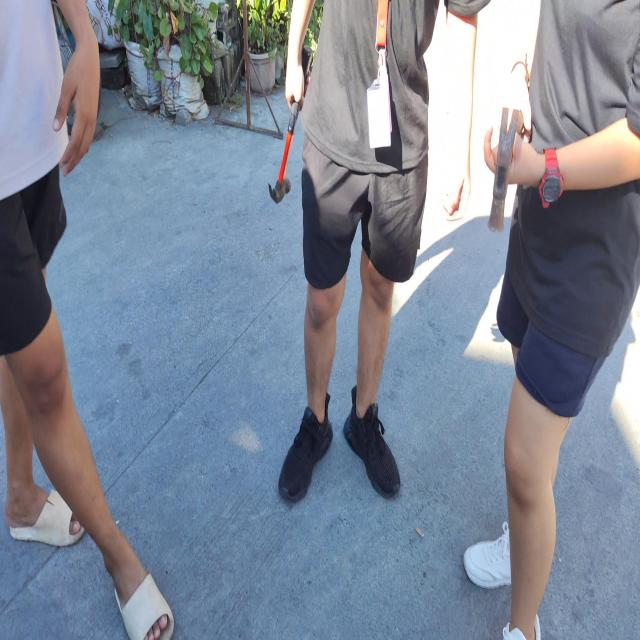hammer: (268, 44, 313, 204), (488, 105, 524, 232)
